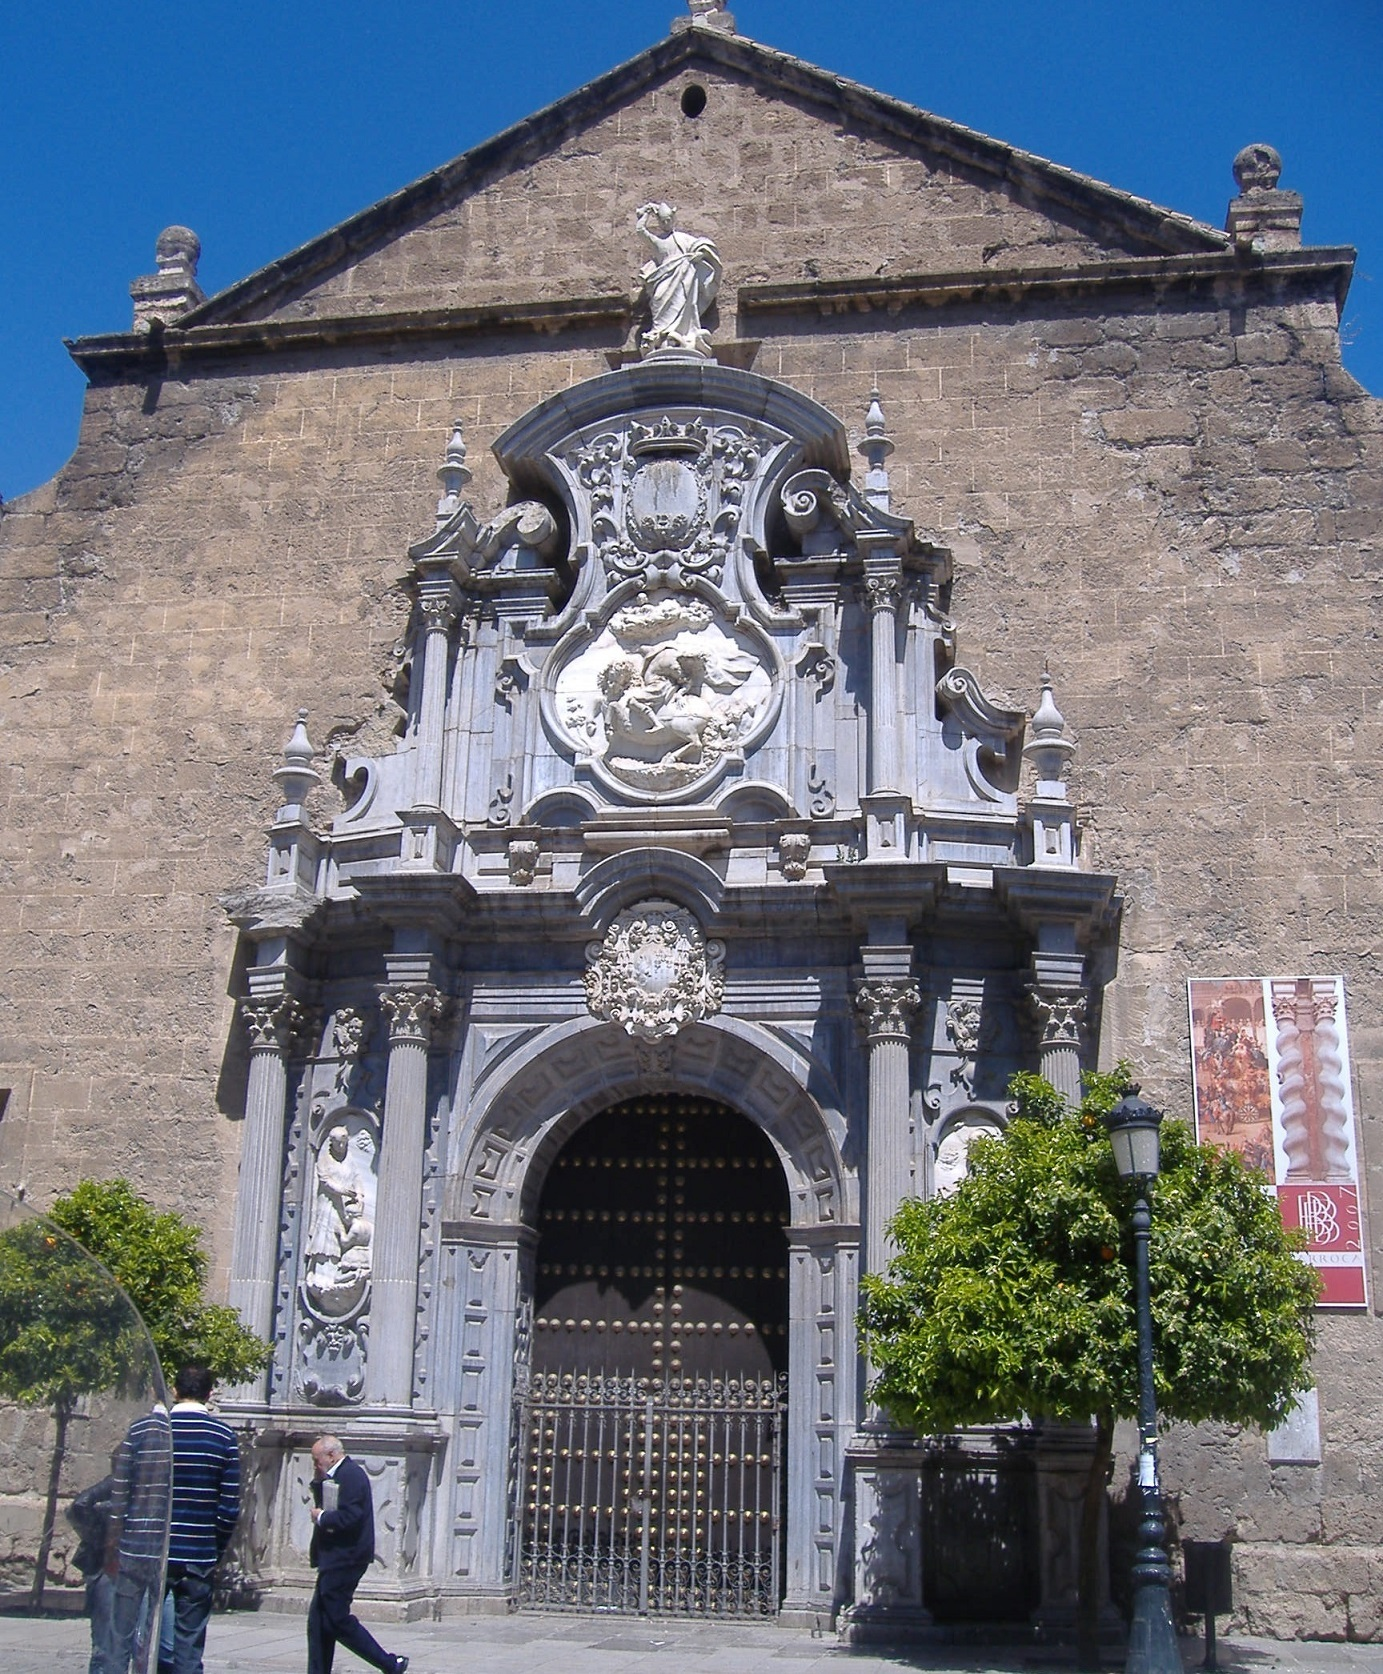arco-medio-punto: (507, 1064, 808, 1262)
